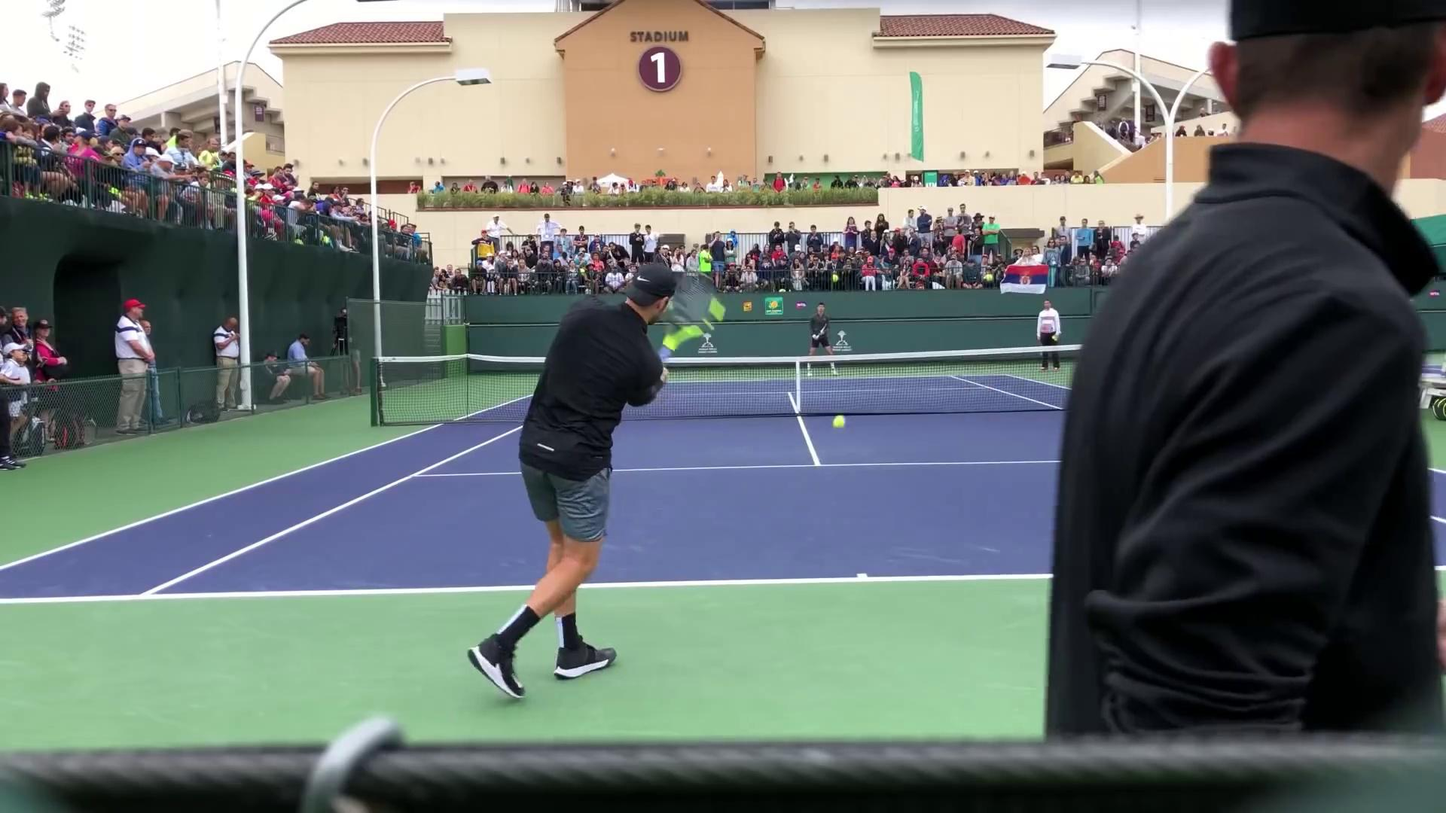ball: (826, 413, 851, 431)
